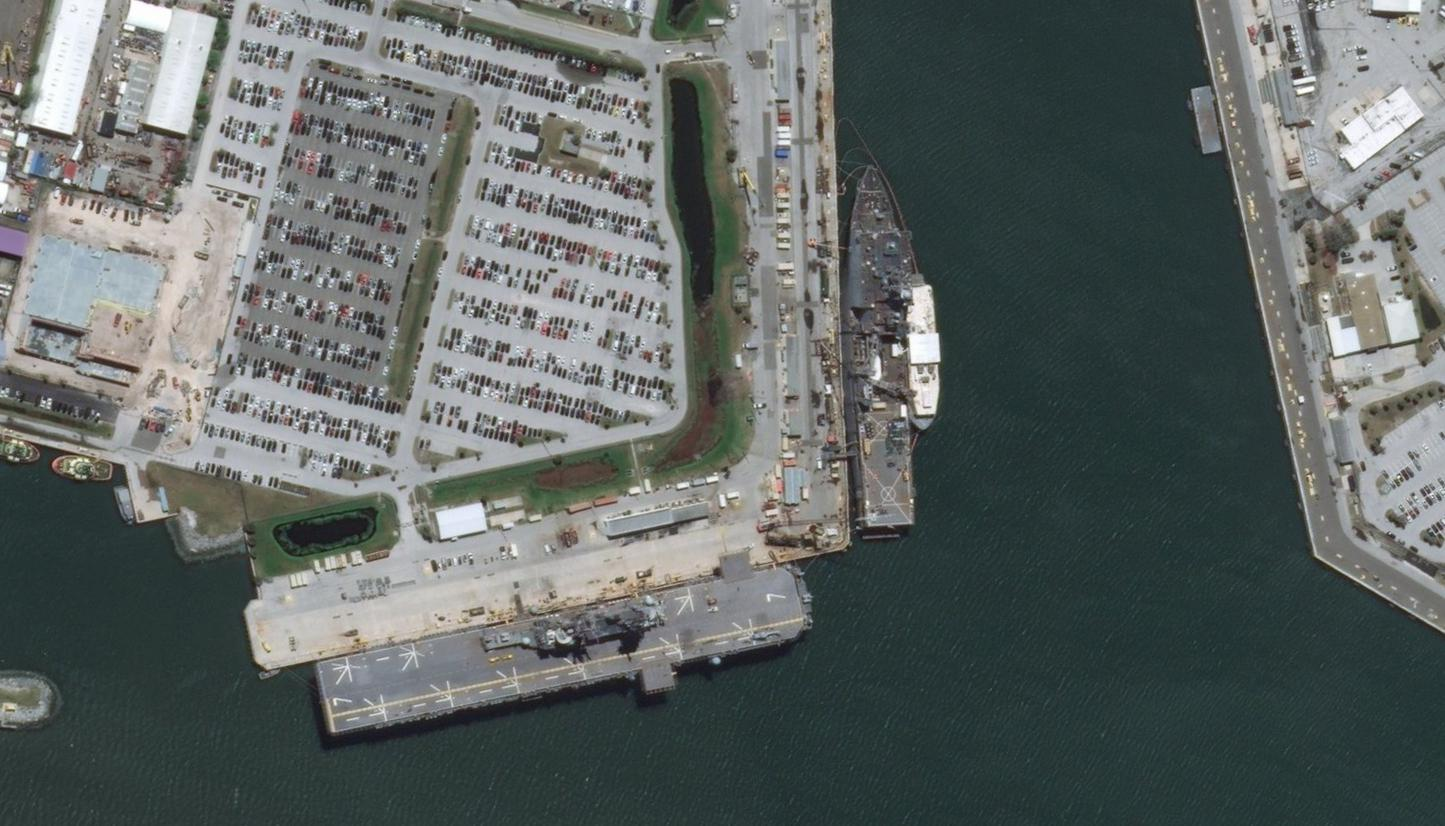amphiby: (312, 546, 817, 751), (849, 154, 920, 541)
